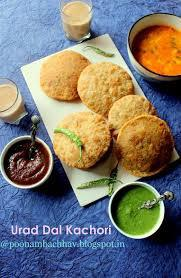kachori: (11, 30, 181, 205)
